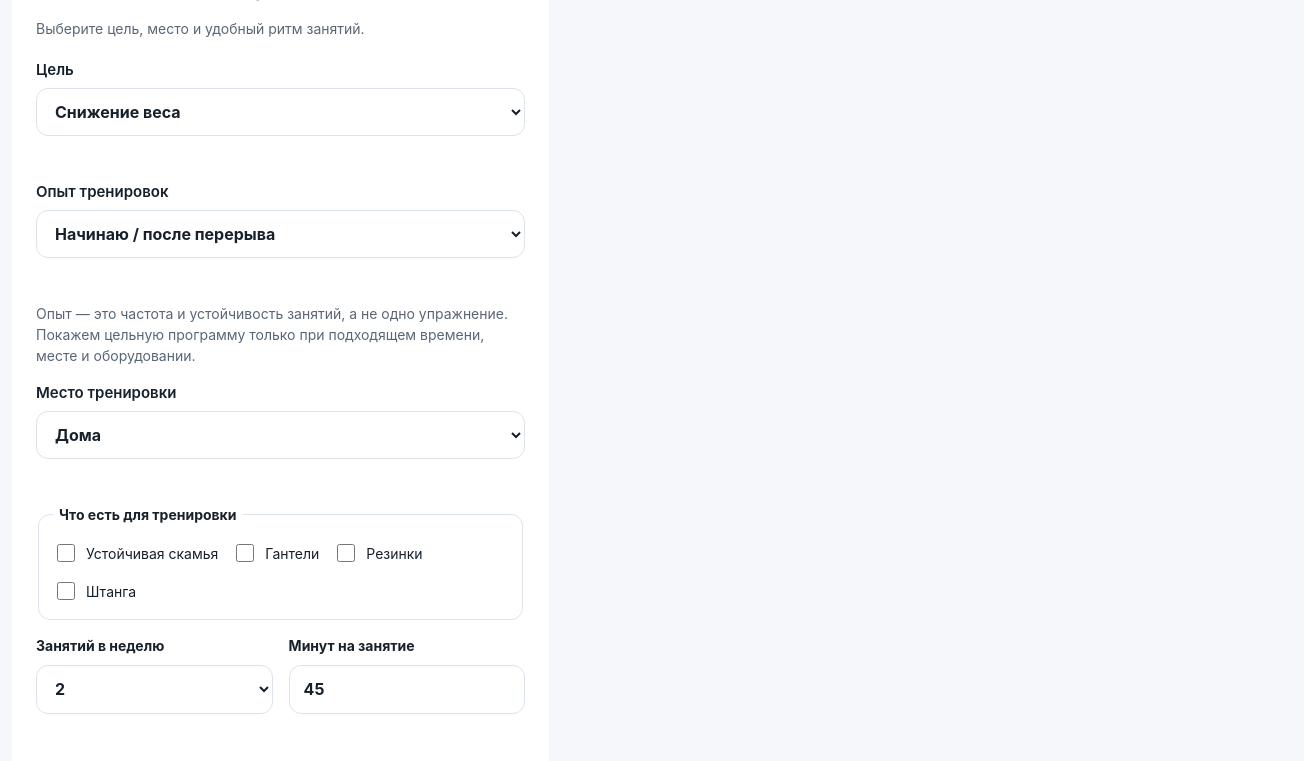
Test: questionnaire chooses a prepared plan and keeps answers after failed save
(page scrolled)
Step 1. Select "Дома" in the dropdown labelled "Место тренировки" → (281, 436), box [36,412,525,460]
(page scrolled)
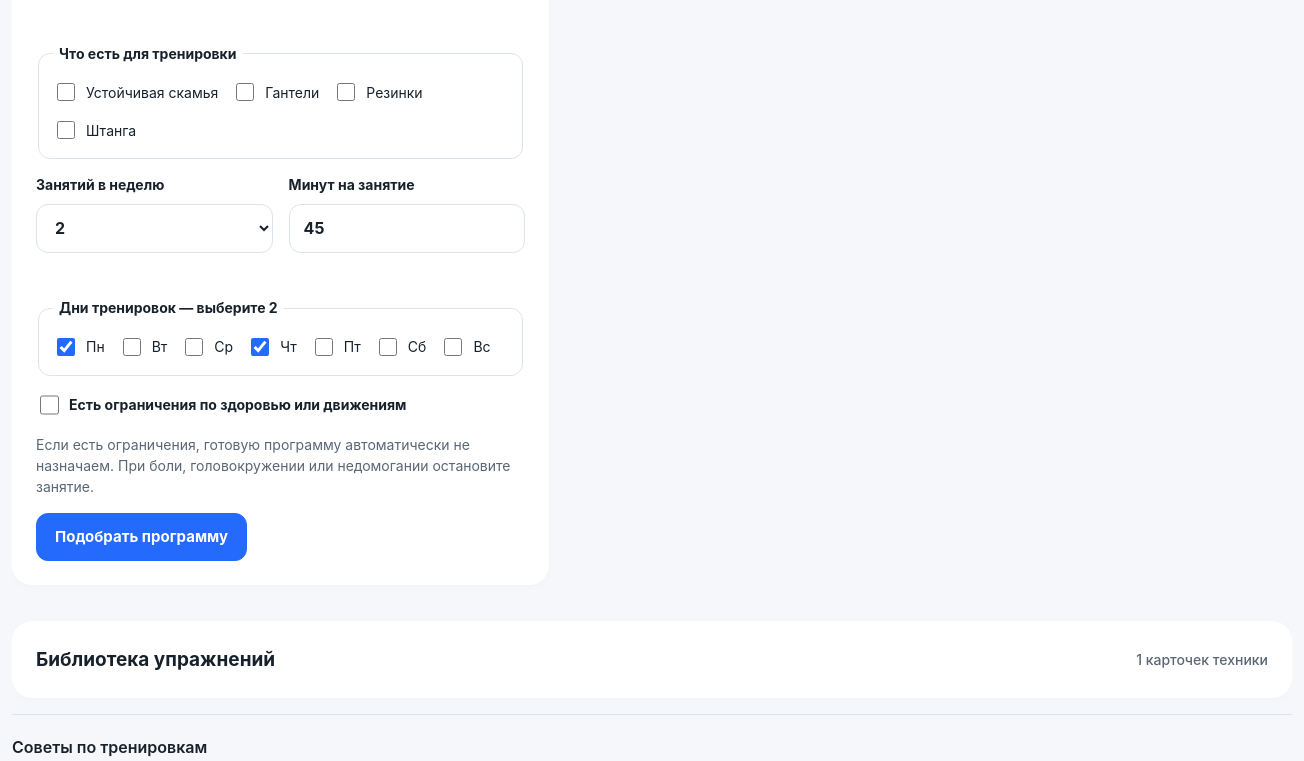
Step 2. Click the button "Подобрать программу" → (142, 537), box [36,513,247,561]
(page scrolled)
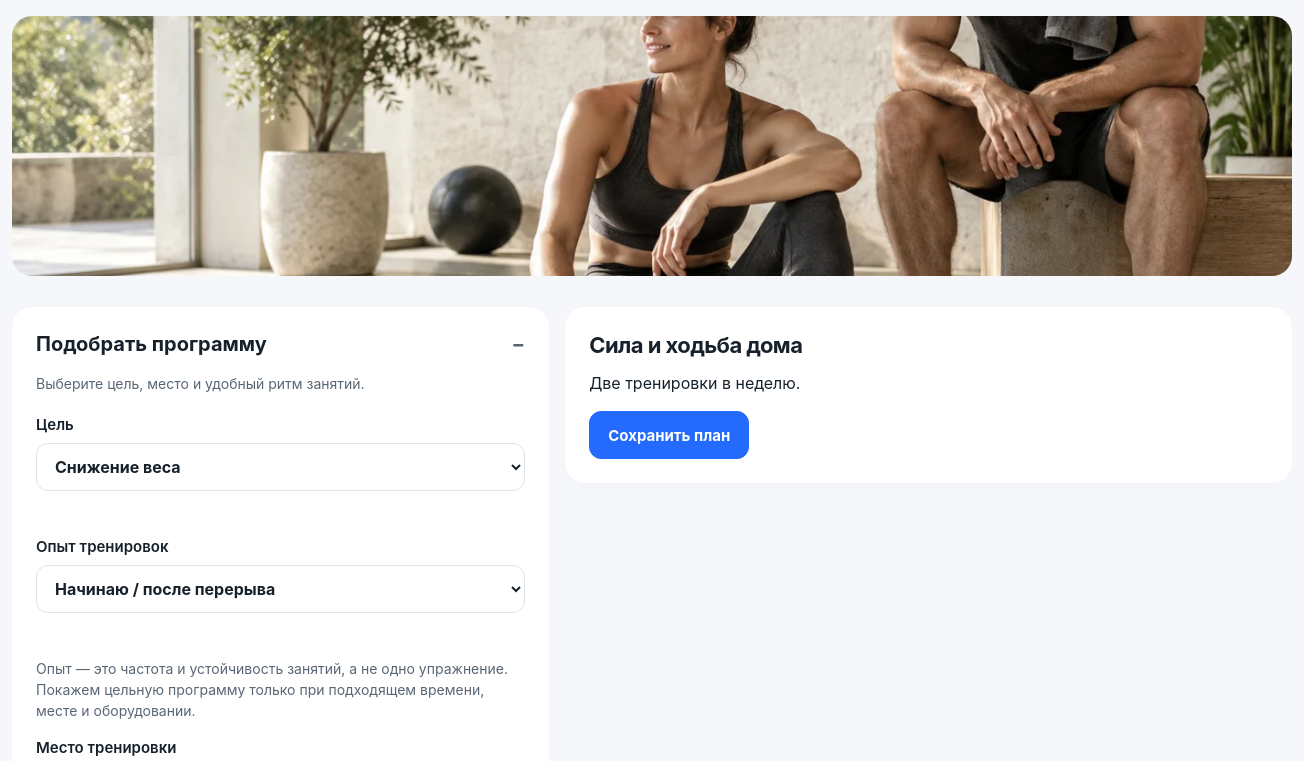
Expected: the heading "Сила и ходьба дома" is shown, [589,332,802,358]
Step 3. Click the button "Сохранить план" → (669, 435), box [589,411,749,459]
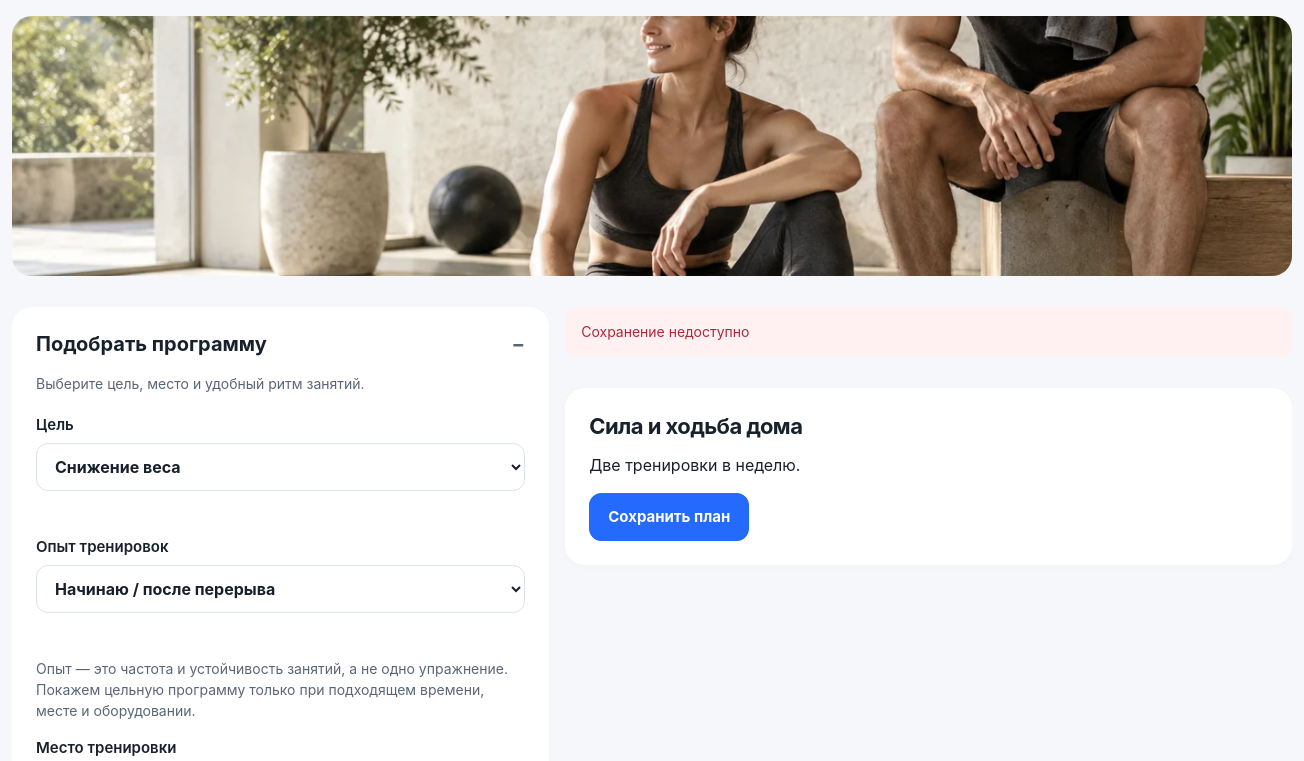
Expected: the heading "Сила и ходьба дома" is shown, [589,413,802,439]
Expected: the message "Сохранение недоступно" is shown, [565,307,1292,356]
Expected: the message reads "Сохранение недоступно", [581,323,749,340]
